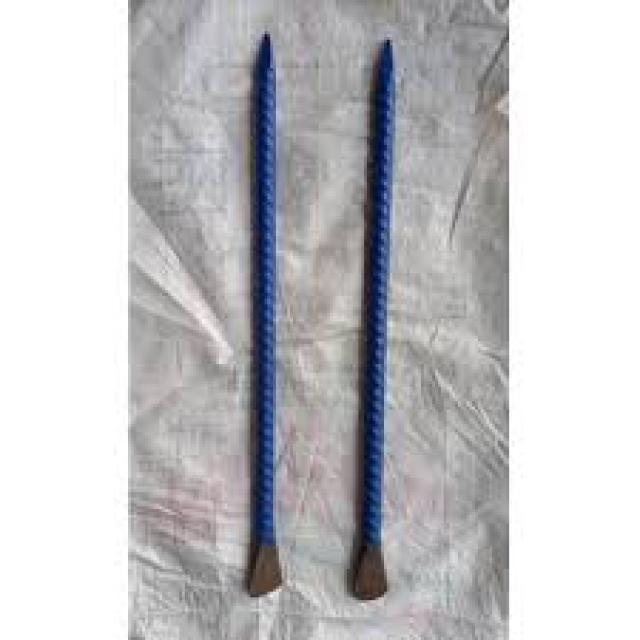Linggis: (234, 13, 293, 607), (350, 13, 404, 608)
